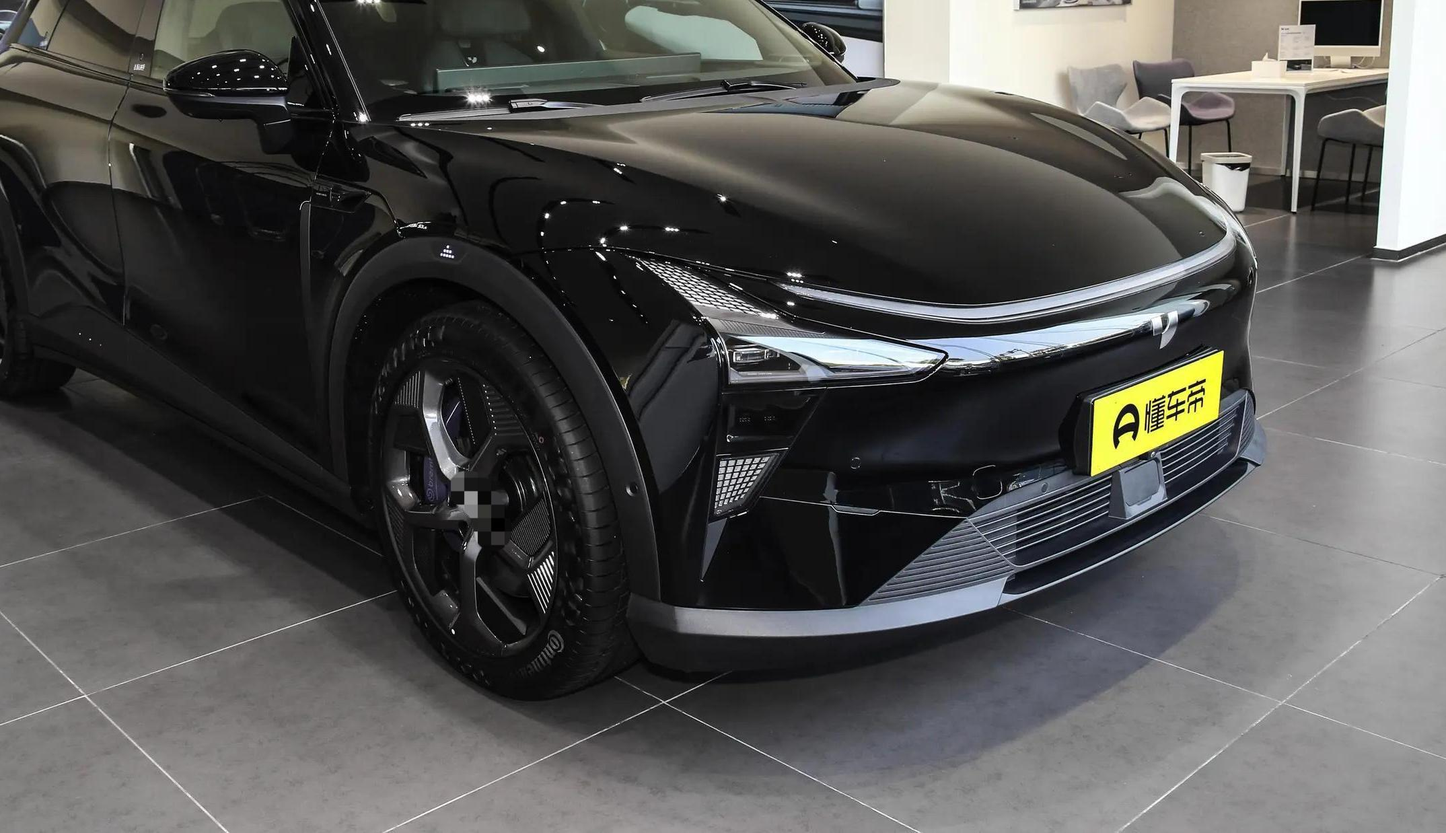JIYUE: (1151, 310, 1179, 348)
